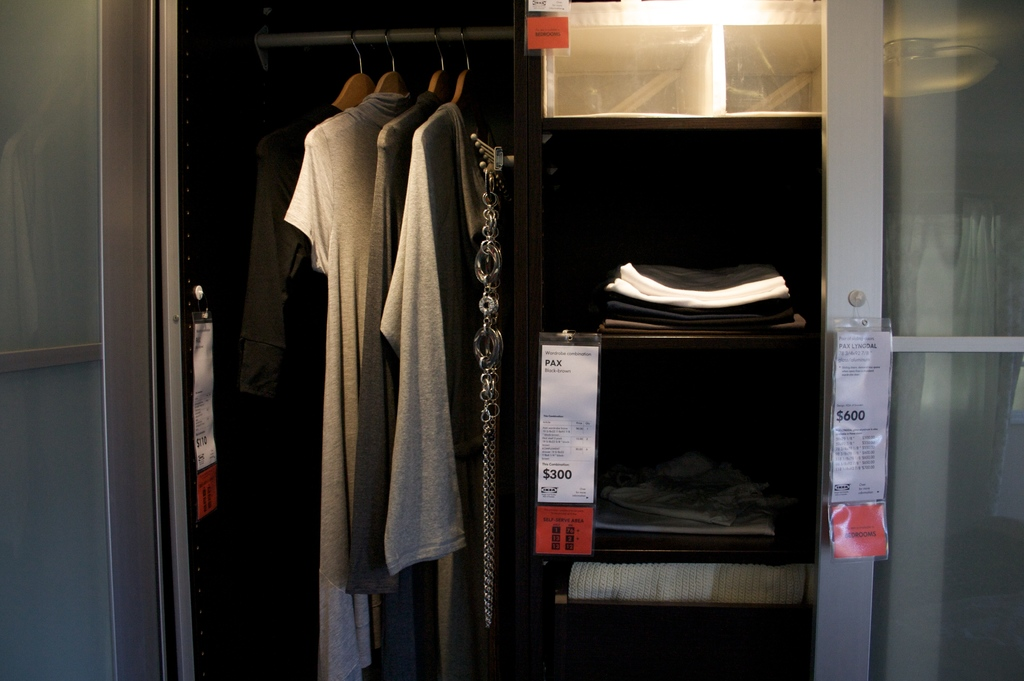cabinet door: (827, 29, 1024, 664), (0, 5, 162, 672)
